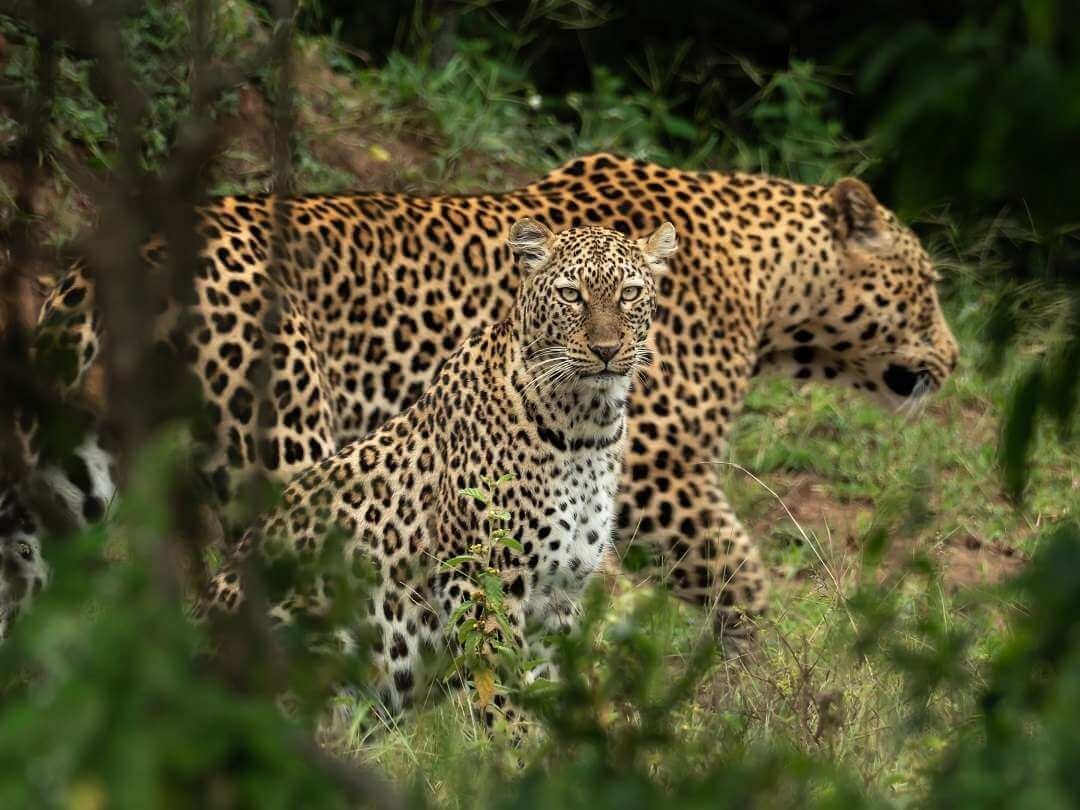leopard: (1, 139, 968, 762), (174, 214, 682, 785)
